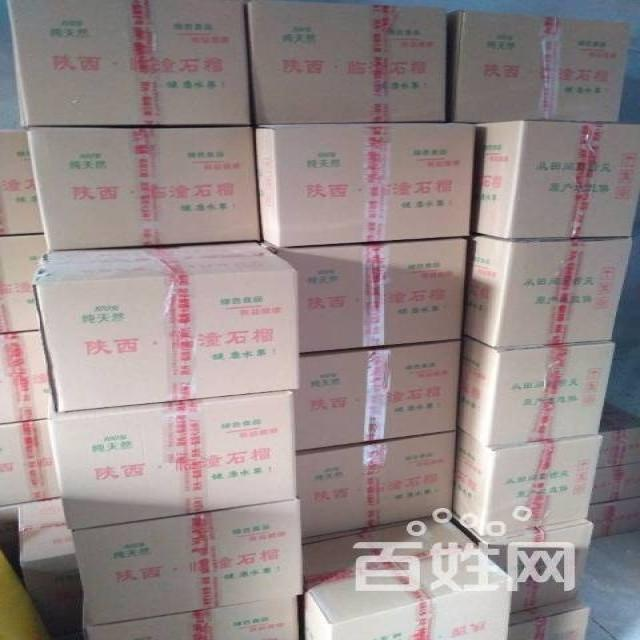box: (32, 241, 300, 413), (47, 389, 299, 531), (4, 0, 251, 127), (72, 496, 305, 625), (23, 127, 260, 251), (251, 122, 477, 247), (301, 516, 515, 639), (243, 0, 447, 127), (256, 237, 471, 355), (444, 8, 629, 124), (472, 119, 640, 238), (464, 233, 635, 348), (292, 341, 459, 451), (452, 427, 603, 547), (297, 432, 456, 544), (459, 334, 613, 445), (456, 520, 595, 613), (17, 496, 85, 639), (84, 599, 300, 640), (0, 329, 55, 424), (1, 419, 59, 507), (0, 127, 43, 237), (0, 235, 45, 334), (509, 598, 592, 640), (597, 394, 640, 470), (589, 494, 640, 540), (589, 461, 640, 504)
